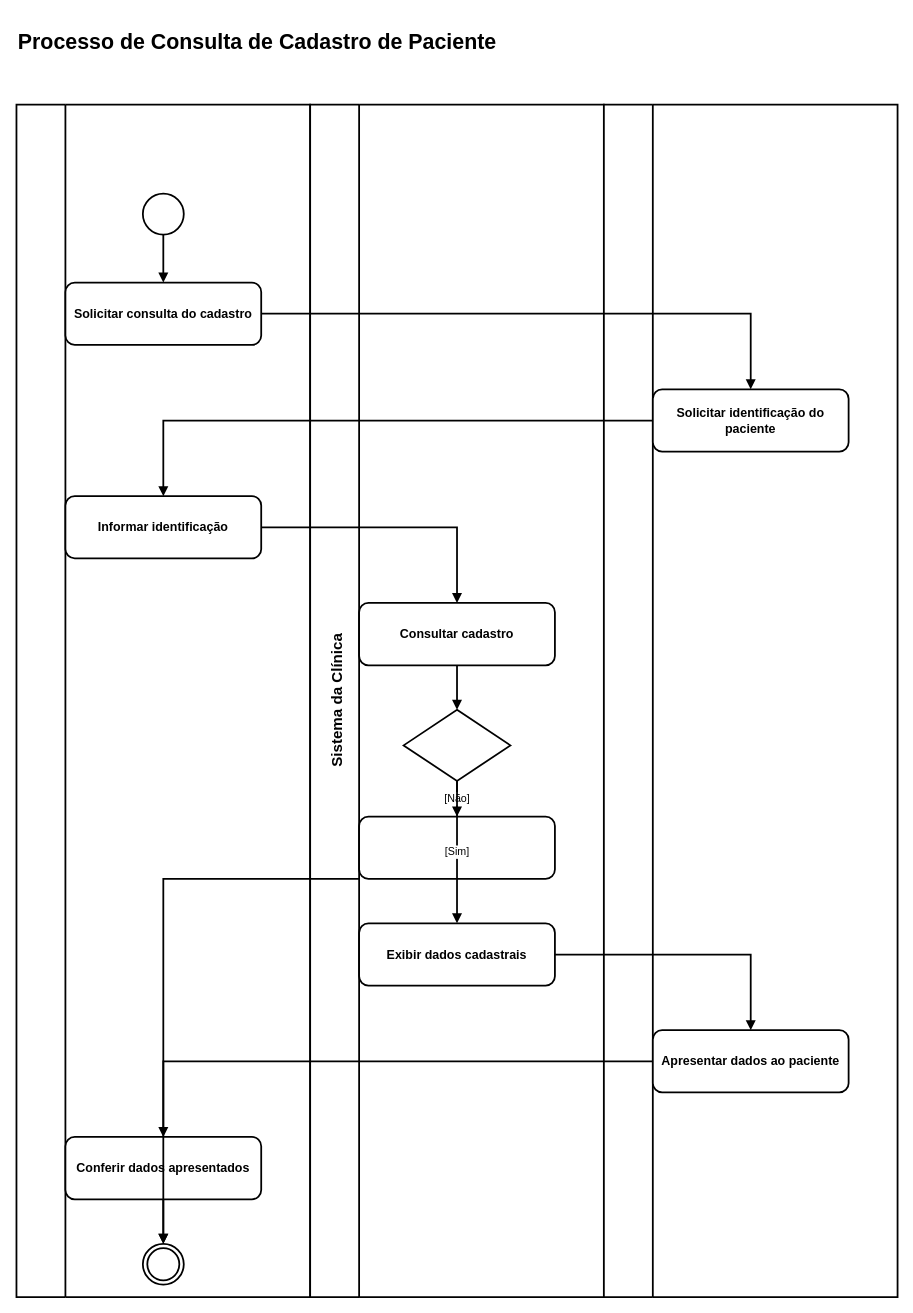
Image size: 913x1313. Some labels were removed from this diagram. Each missing label, with the box of its shape:
Cadastro localizado?: (402, 708, 511, 781)
Informar cadastro não localizado: (358, 815, 555, 879)
Paciente: (15, 103, 311, 1298)
Recepção: (603, 103, 898, 1298)
